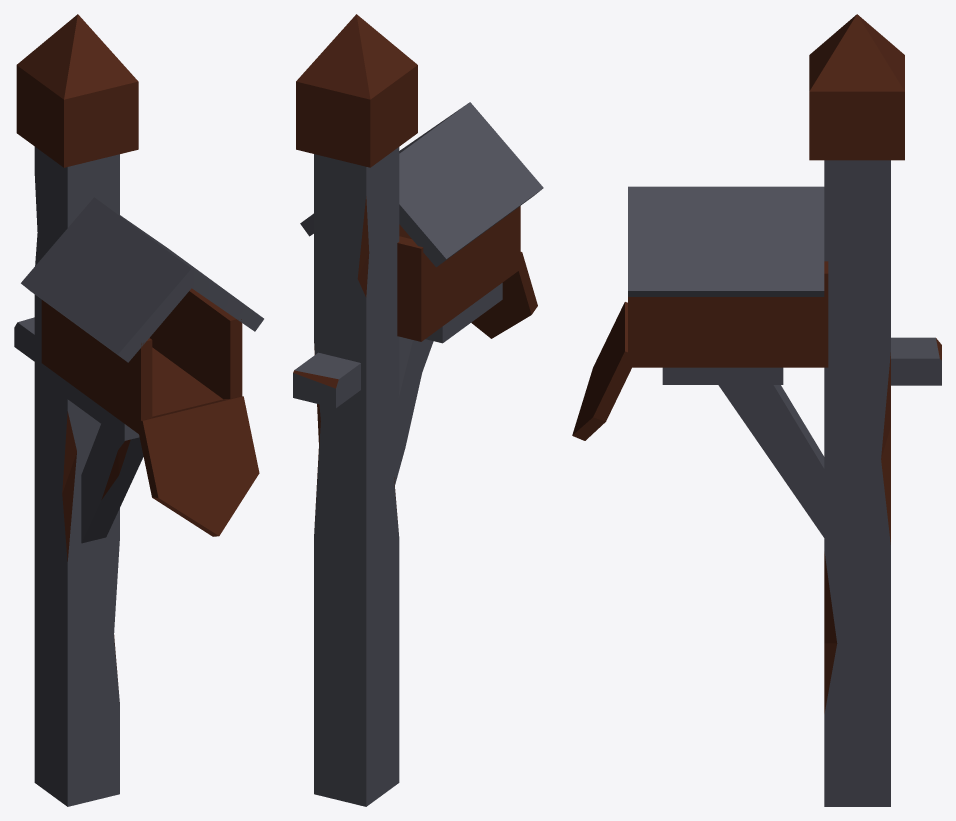
Rendered from Mailbox_2.fbx.
3 renders of one model, left to right at view 1: azimuth 30°, elevation 25°; view 2: azimuth 150°, elevation 25°; view 3: azimuth 270°, elevation 25°, orthographic.
Parts seen in each view (by area): view 1: Mailbox_2; view 2: Mailbox_2; view 3: Mailbox_2.
Boxes of the visible parts, x1,y1,x2,y2 form: Mailbox_2: (14, 14, 263, 806); Mailbox_2: (293, 14, 543, 806); Mailbox_2: (572, 14, 941, 806).
Bounding box in the file's own units: 10.67 × 53.93 × 23.16.
